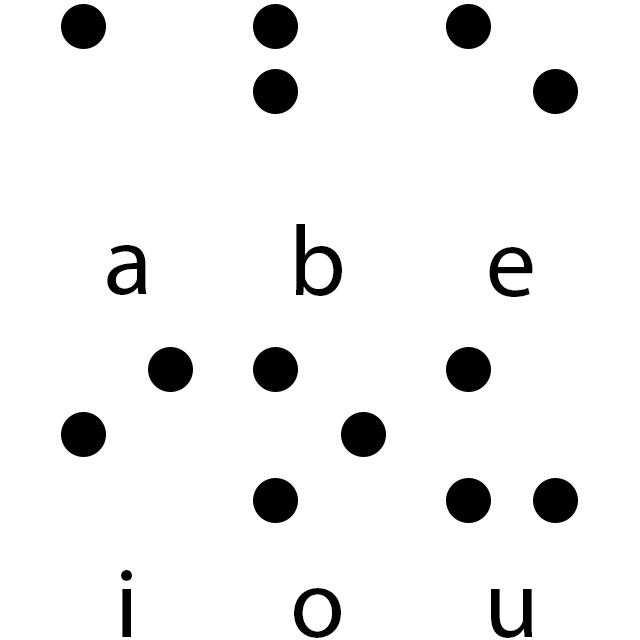A: (56, 2, 196, 212)
B: (247, 3, 387, 204)
E: (444, 2, 579, 205)
I: (56, 342, 198, 531)
O: (248, 343, 391, 528)
U: (441, 342, 582, 528)
